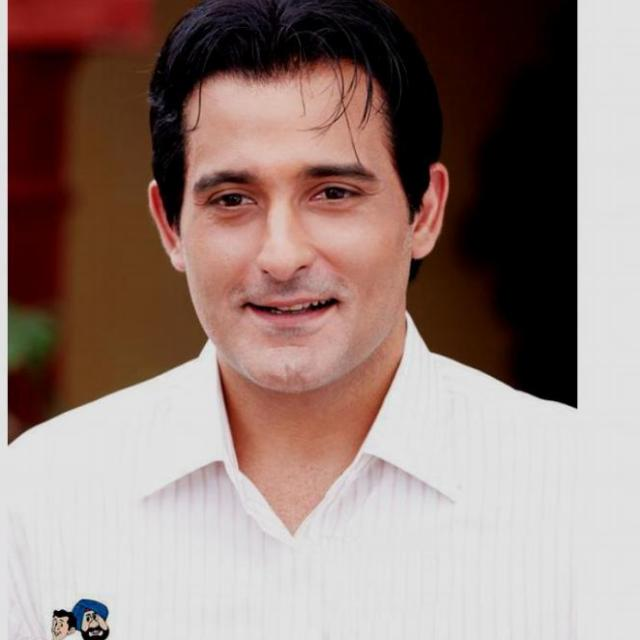live: (142, 64, 460, 404)
